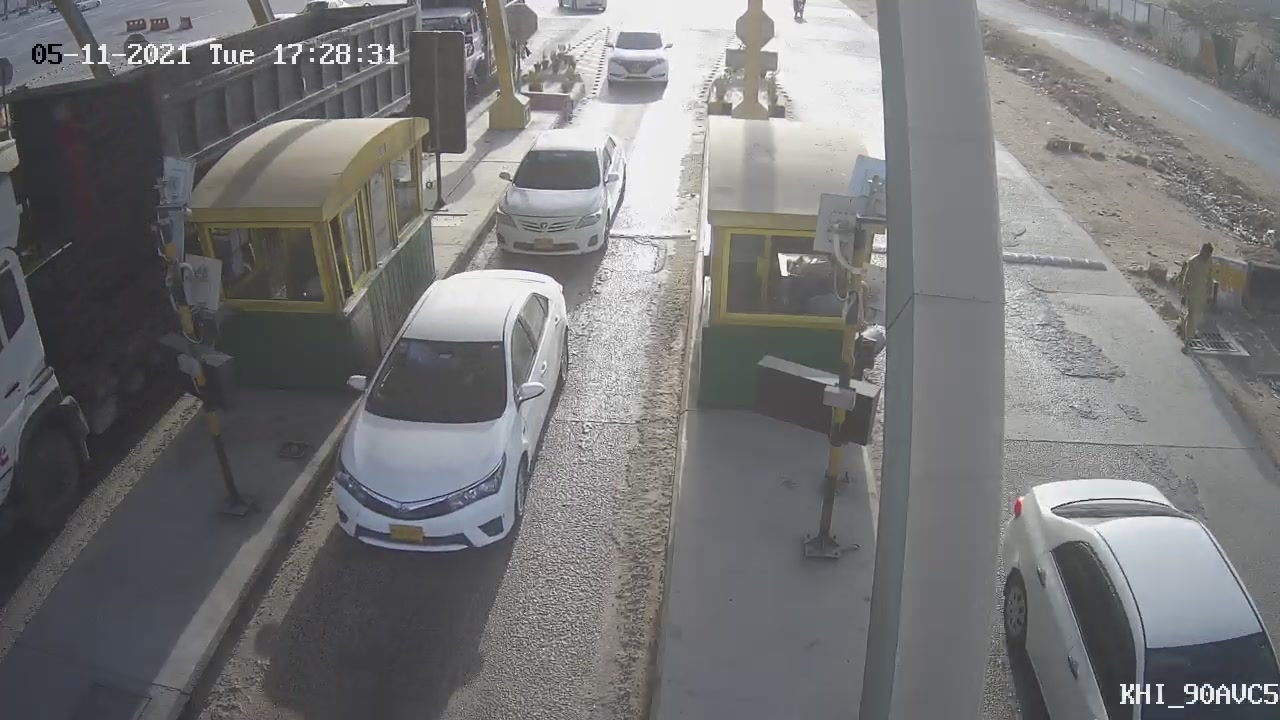F1: (300, 249, 601, 585), (474, 112, 647, 274)
